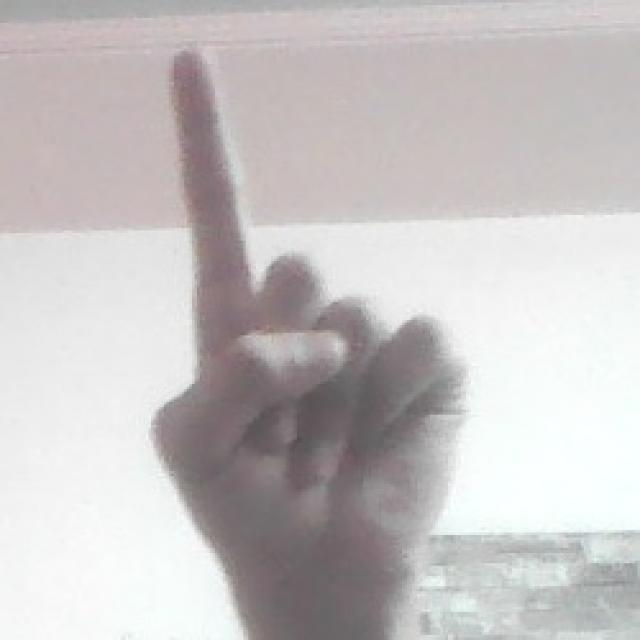Numeric-1: (154, 44, 467, 610)
